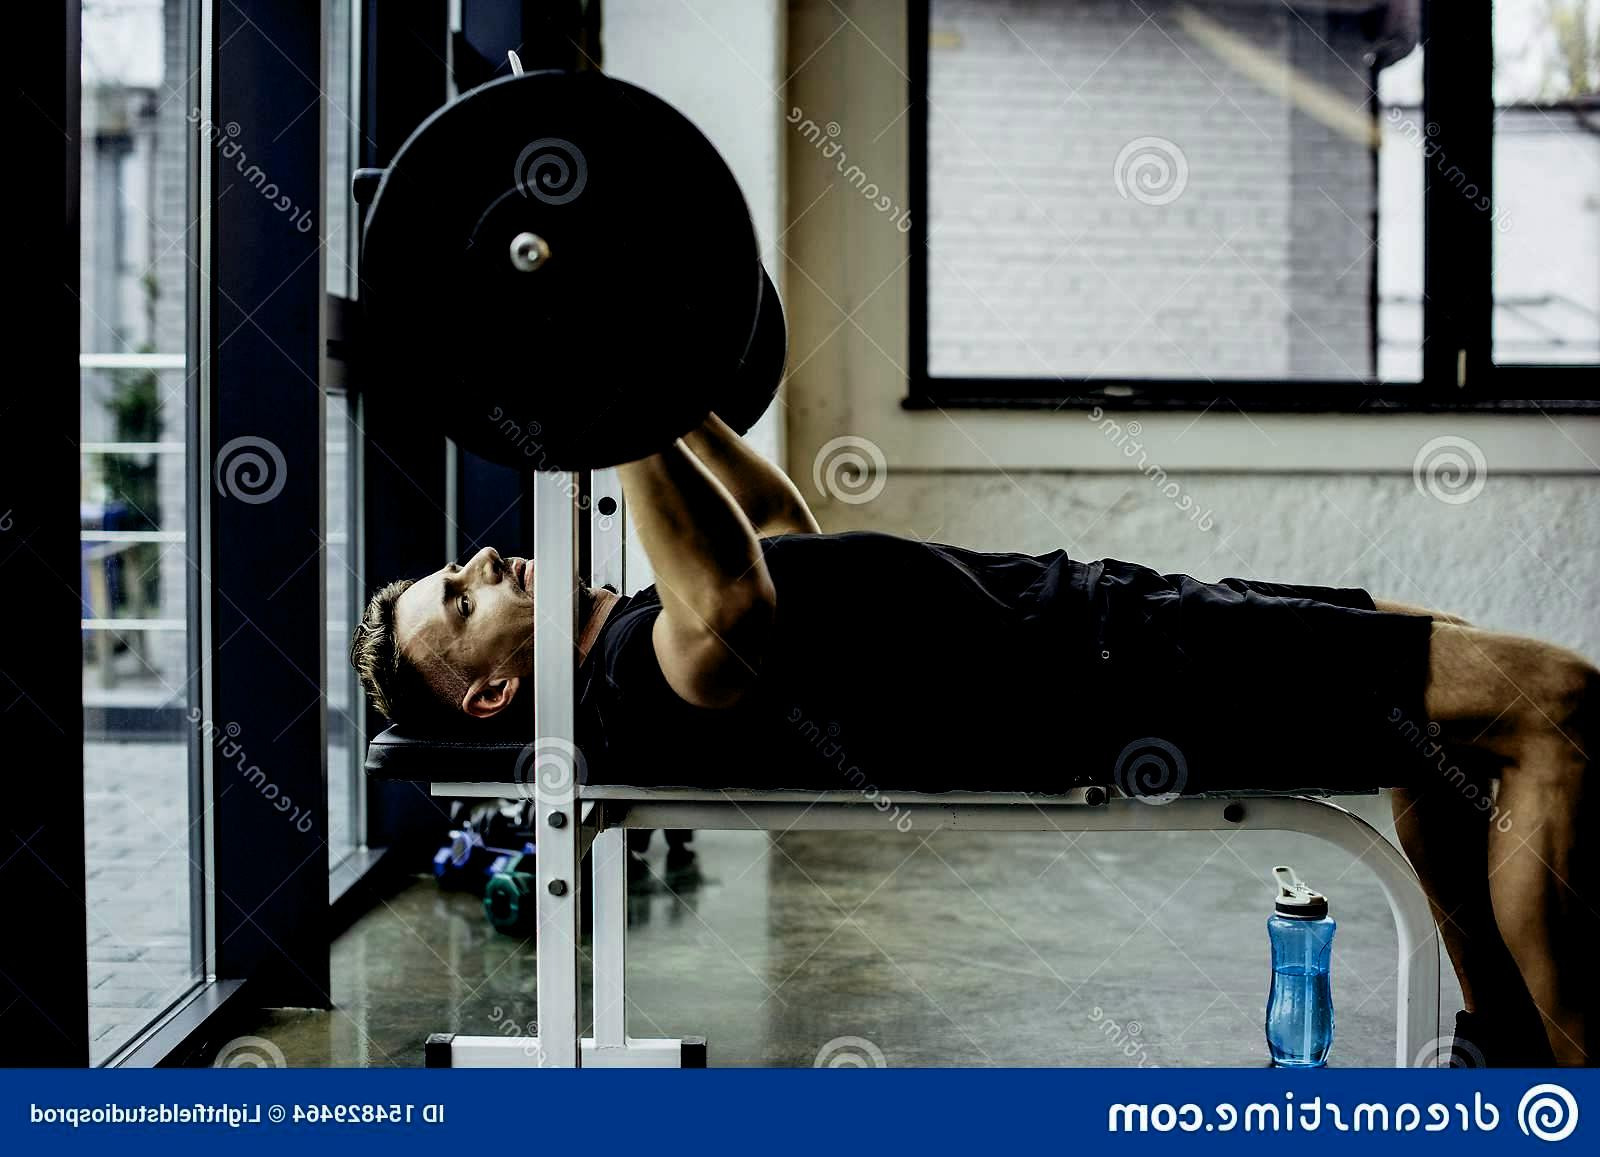Barbell: (502, 227, 557, 280)
